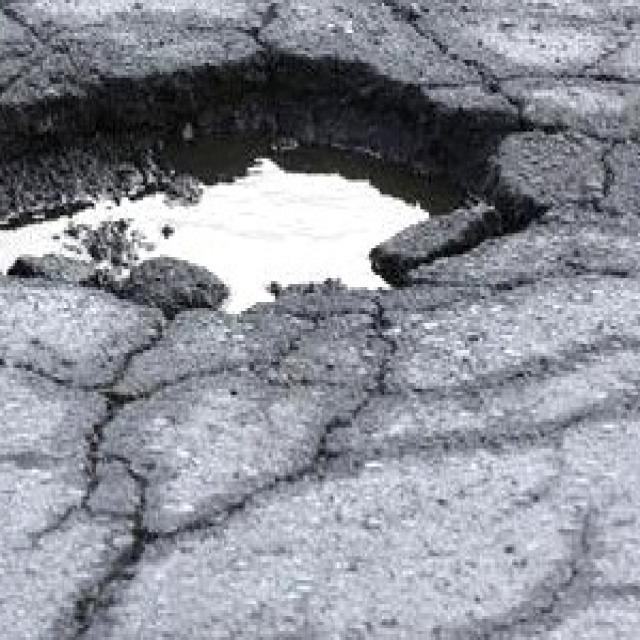road-pothole: (0, 40, 544, 322)
